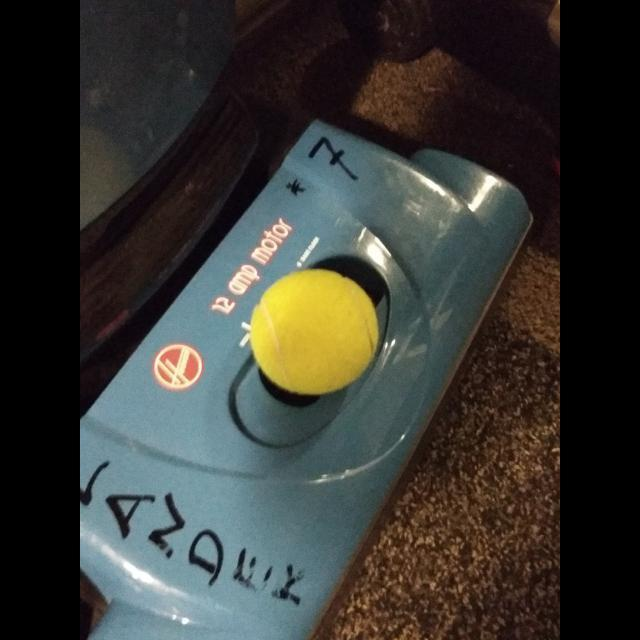tennis-ball: (248, 267, 381, 397)
